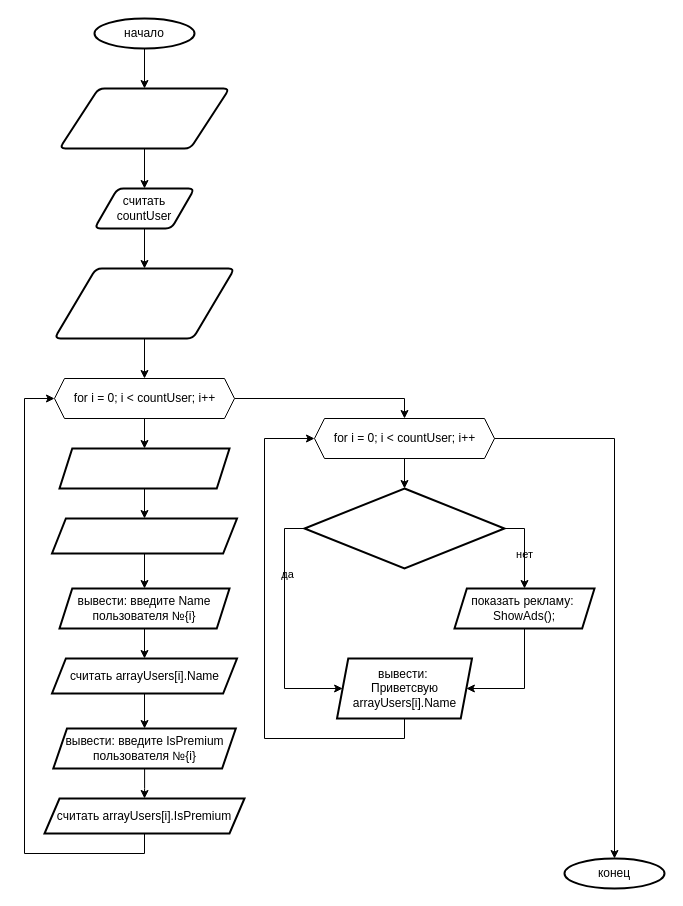
The diagram is 683 pixels wide and 906 high, and some of its shapes have lost their labels. Each missing label, with the box of its shape:
if (arrayUsers[i].IsPremium == true);: (303, 487, 505, 569)
вывести: введите Login пользователя №{i}: (58, 447, 230, 489)
вывести: введите количество пользователей: (58, 87, 230, 149)
создать список пользователей: arrayUsers = new User[countUser];: (53, 267, 235, 339)
считать arrayUsers[i].Login: (50, 517, 238, 554)
